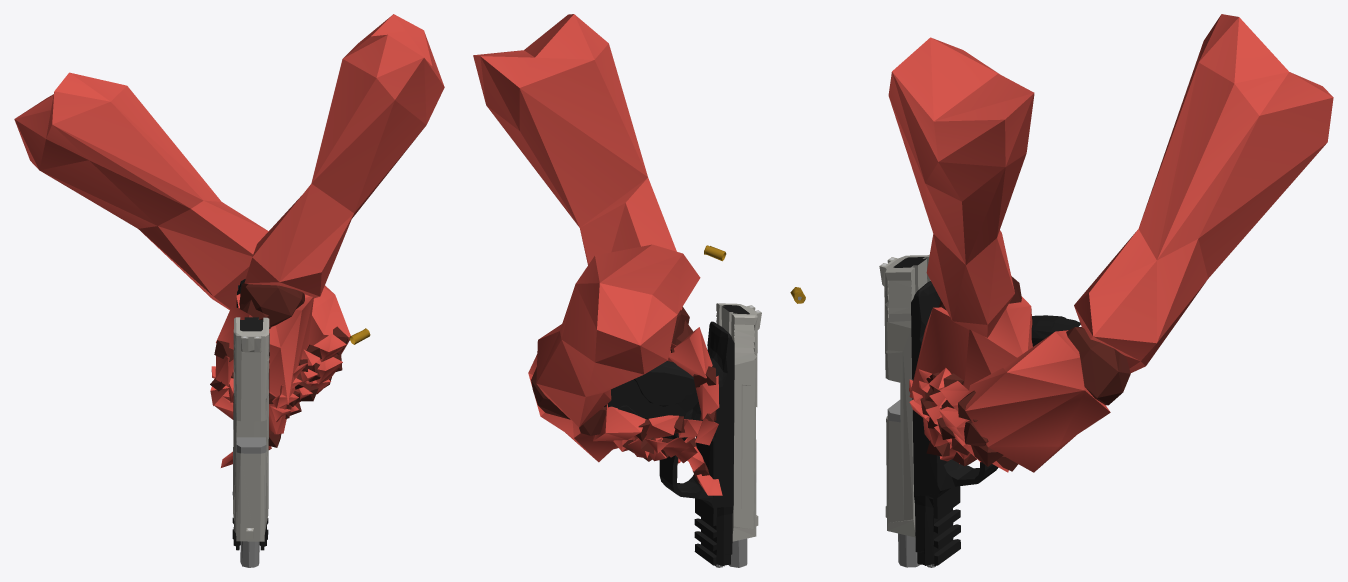
The model's file is M&P9shootExtendLowPoly_000020.obj.
3 renders of one model, left to right at view 1: azimuth 30°, elevation 25°; view 2: azimuth 150°, elevation 25°; view 3: azimuth 270°, elevation 25°, orthographic. The views are drawn at different scales.
Parts seen in each view (by area): view 1: Beta_Surface, slide_平面.002, Beta_Joints, barrel_円.001; view 2: Beta_Surface, body_平面, slide_平面.002, Beta_Joints, barrel_円.001; view 3: Beta_Surface, body_平面, slide_平面.002, Beta_Joints, barrel_円.001.
Boxes of the visible parts, x1,y1,x2,y2 form: Beta_Surface: (14, 14, 444, 467); slide_平面.002: (233, 317, 269, 541); Beta_Joints: (210, 282, 348, 447); barrel_円.001: (236, 437, 266, 567); Beta_Surface: (473, 14, 722, 495); body_平面: (607, 321, 734, 566); slide_平面.002: (716, 303, 761, 541); Beta_Joints: (531, 306, 716, 482); barrel_円.001: (729, 538, 747, 567); Beta_Surface: (888, 14, 1333, 472); body_平面: (911, 281, 1080, 565); slide_平面.002: (879, 255, 930, 537); Beta_Joints: (920, 276, 1130, 471); barrel_円.001: (887, 400, 920, 567).
Bounding box in the file's own units: 46.82 × 74.49 × 59.62.
